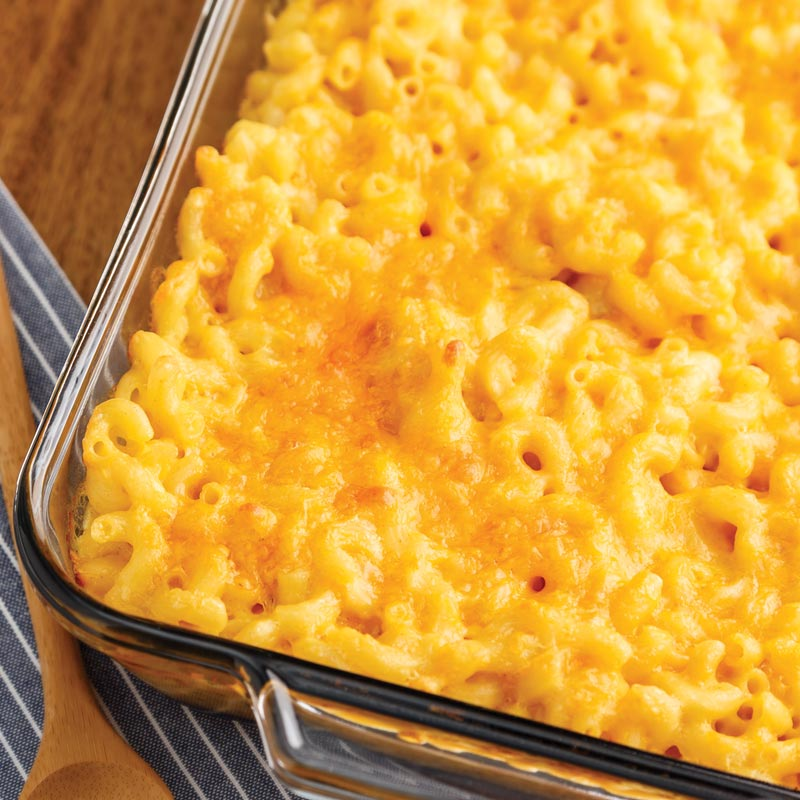macncheese: (78, 17, 795, 738)
